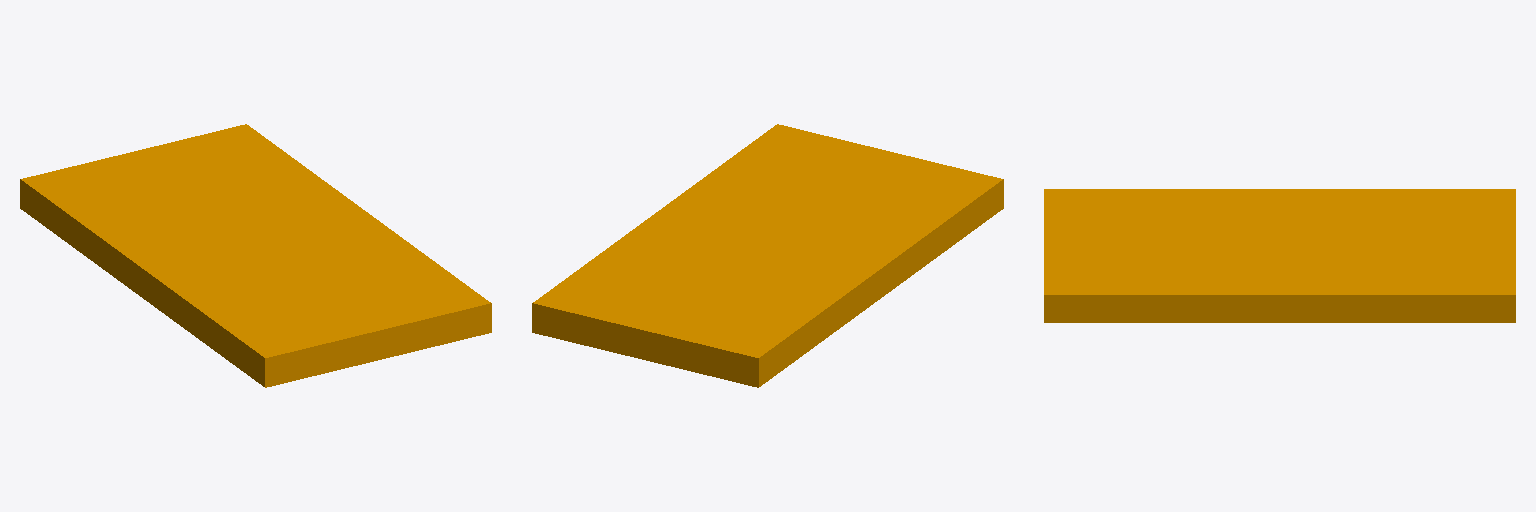
The robot description file, URDF, robot "table_box":
<robot name="table_box">
  <link name="my_box">
    <inertial>
      <origin xyz="0 0 0" />
      <mass value="1.0" />
      <inertia  ixx="1.0" ixy="0.0"  ixz="0.0"  iyy="100.0"  iyz="0.0"  izz="1.0" />
    </inertial>
    <visual>
      <origin xyz="0 0 0"/>
      <geometry>
        <box size="0.08 0.15 0.01" />
      </geometry>
    </visual>
    <collision>
      <origin xyz="0 0 0"/>
      <geometry>
        <box size="0.08 0.15 0.01" />
      </geometry>
    </collision>
  </link>
  <gazebo reference="my_box">
    <material>Gazebo/Green</material>
  </gazebo>
</robot>

--- Render facts (derived) ---
3 views of the same robot in one strip: view 1: azimuth 30°, elevation 25°; view 2: azimuth 150°, elevation 25°; view 3: azimuth 270°, elevation 25° (orthographic).
Robot: table_box — 1 links, 0 joints (none); root link my_box; default pose: every joint at zero.
Visible links, largest first — view 1: my_box; view 2: my_box; view 3: my_box.
Link boxes in pixels (x1,y1,x2,y2): my_box: [20, 124, 491, 387]; my_box: [532, 124, 1003, 387]; my_box: [1044, 189, 1515, 322].
Bounding box of the posed robot: 0.08 × 0.15 × 0.01 m (x, y, z).
Geometry: primitives only (box / cylinder / sphere), no mesh files.